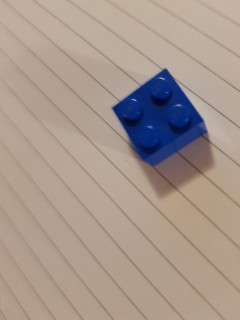2x2 blue: (109, 66, 210, 168)
